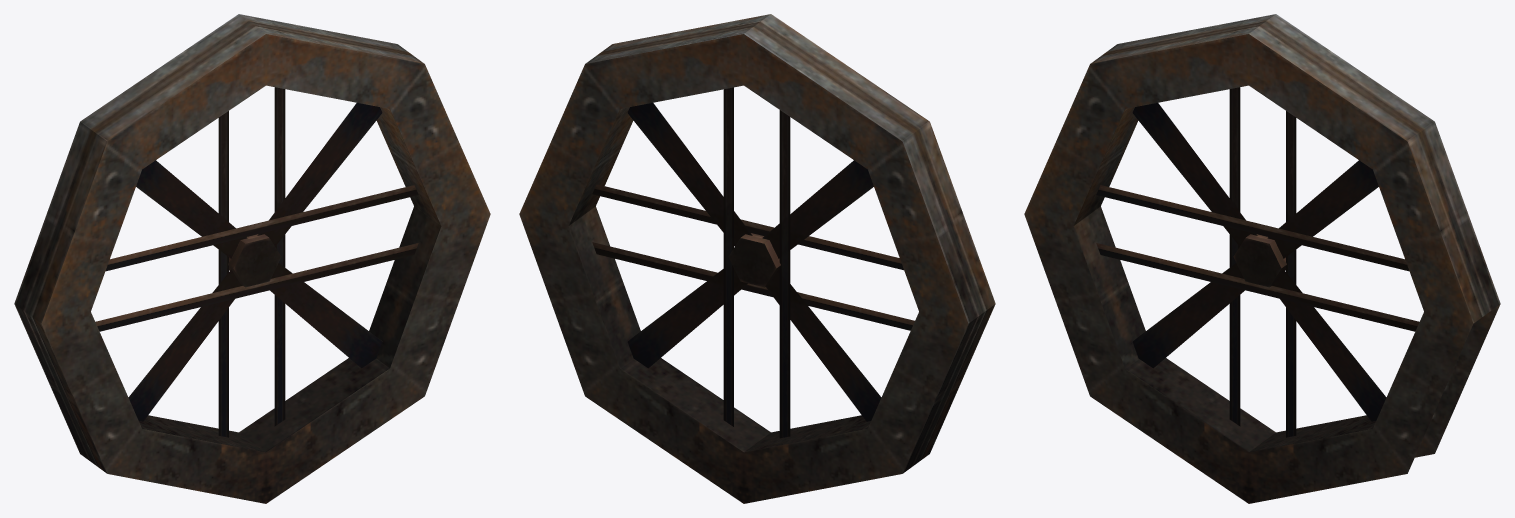
File: Dhz_AluminumMinedm_01a.FBX
3 views of the same model, side by side, from view 1: azimuth 30°, elevation 25°; view 2: azimuth 150°, elevation 25°; view 3: azimuth 330°, elevation 25° (orthographic).
Parts seen in each view (by area): view 1: Dhz_AluminumMinedm_01a; view 2: Dhz_AluminumMinedm_01a; view 3: Dhz_AluminumMinedm_01a.
Part boxes in pixels (left/top/right/bottom): Dhz_AluminumMinedm_01a: left=14, top=14, right=490, bottom=503; Dhz_AluminumMinedm_01a: left=519, top=14, right=995, bottom=503; Dhz_AluminumMinedm_01a: left=1024, top=14, right=1500, bottom=503.
Bounding box in the file's own units: 36.03 × 36.03 × 3.79.
